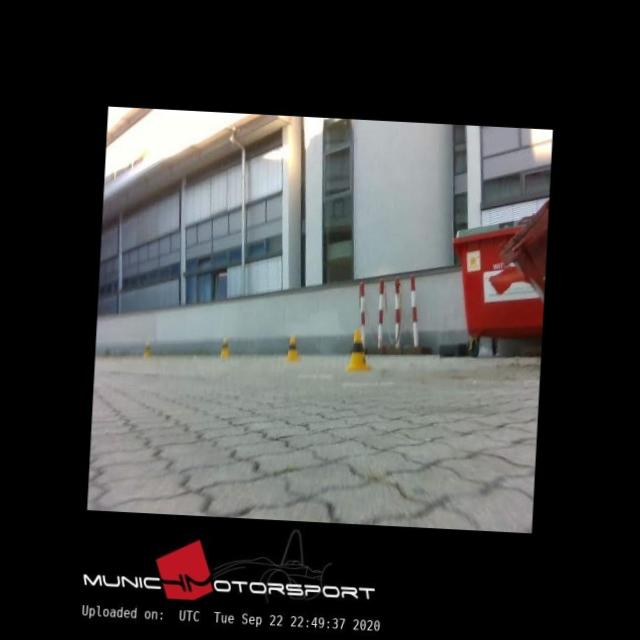Cono de seguridad: (345, 329, 373, 371), (284, 336, 300, 360), (219, 338, 230, 358), (143, 342, 151, 357)
